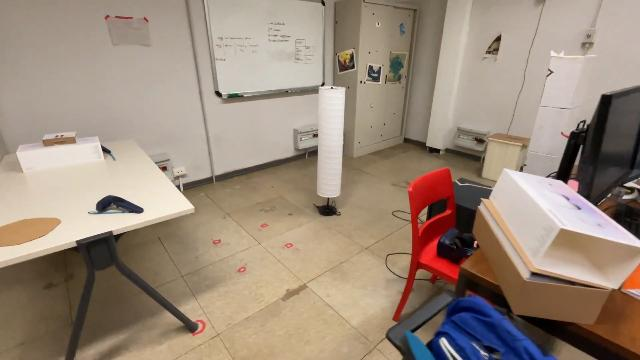Chair: (389, 164, 497, 326)
Lamp: (313, 84, 345, 219)
